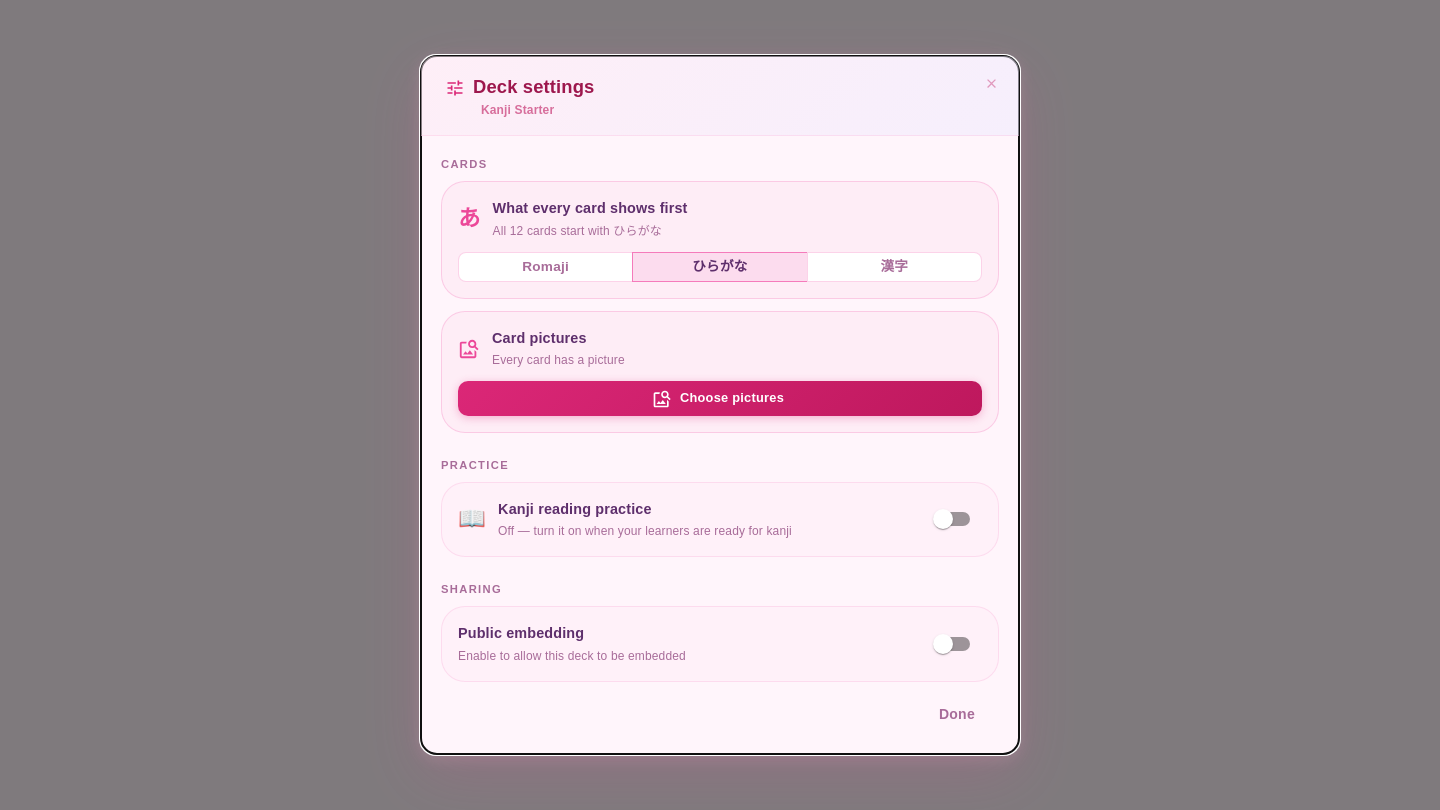
Scenario: DeckSettingsDialog › surfaces a failed view mode change
Click the button "漢字": (894, 267) x1=807 y1=252 x2=982 y2=282
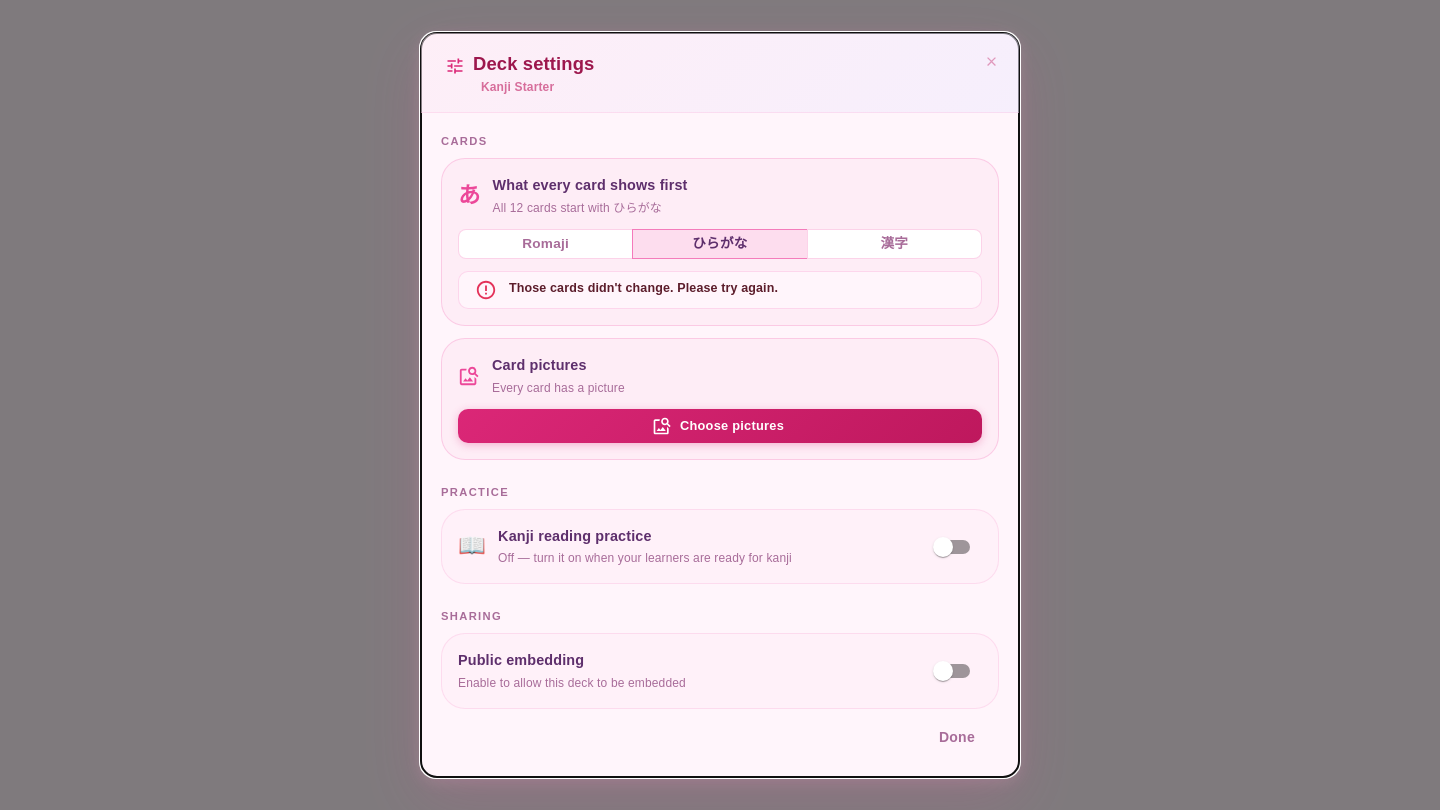
Now the text "Those cards didn't change. Please try again." is shown, box x1=509 y1=281 x2=778 y2=295
